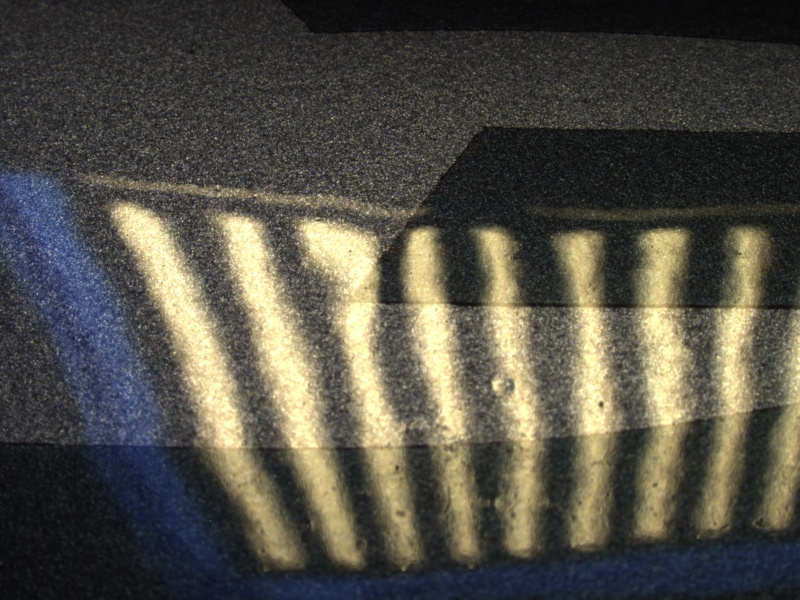bad: (484, 368, 522, 408)
